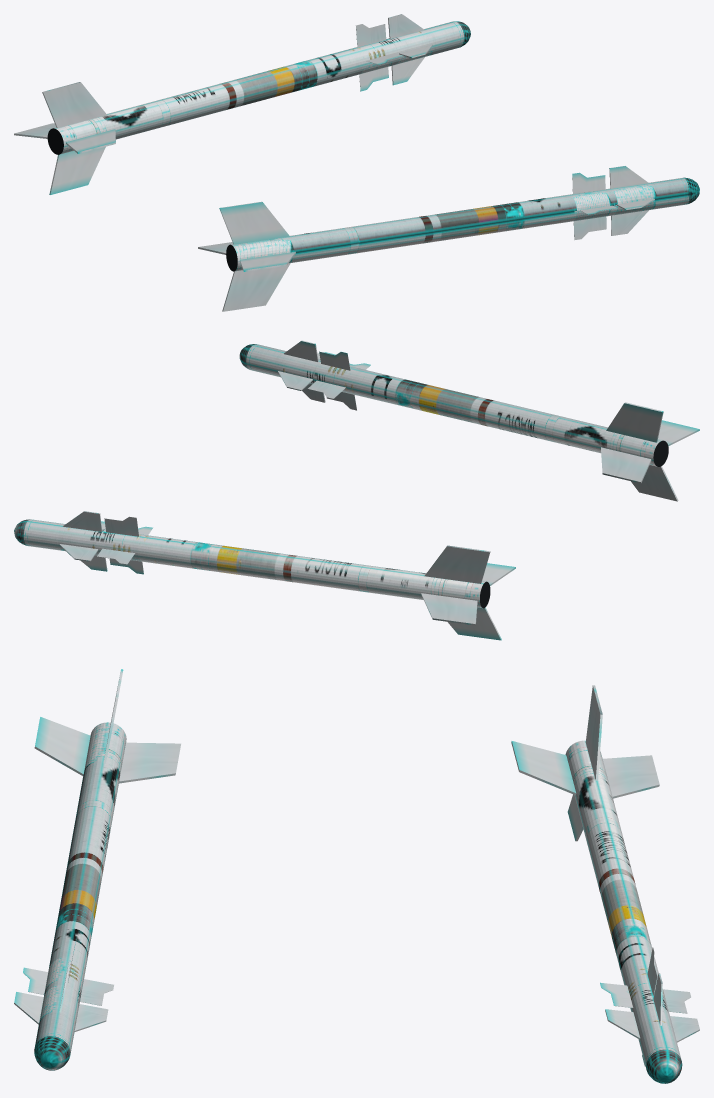
File: rafaler550561.glb
3 renders of one model, top to bottom at view 1: azimuth 30°, elevation 25°; view 2: azimuth 150°, elevation 25°; view 3: azimuth 270°, elevation 25°, orthographic. The views are drawn at different scales.
Visible parts, largest first — view 1: 立方体.017, 立方体.001; view 2: 立方体.001, 立方体.017; view 3: 立方体.001, 立方体.017.
Boxes of the visible parts, box(x1,y1,x2,y2) form: 立方体.017: box(198, 166, 699, 311); 立方体.001: box(14, 14, 470, 194); 立方体.001: box(14, 511, 515, 640); 立方体.017: box(239, 340, 699, 501); 立方体.001: box(511, 685, 699, 1083); 立方体.017: box(14, 669, 180, 1070).
Size of the model in its own units: 3.21 by 0.7305 by 3.07.
Materials: 2 (2 with a texture image).
